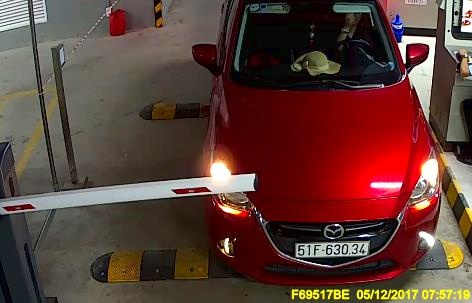plate: (294, 237, 369, 259)
